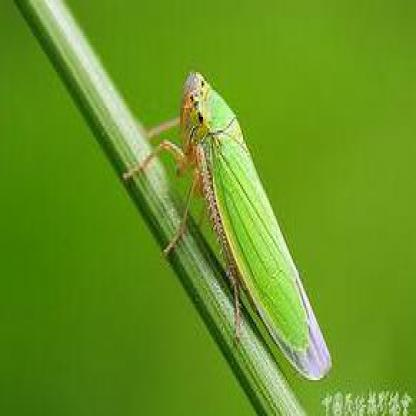Green-Leafhopper: (126, 74, 337, 379)
